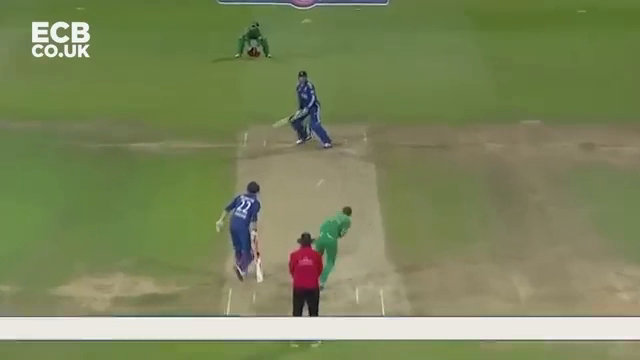Bowler: (218, 181, 269, 287), (320, 201, 355, 287)
Keeper: (232, 18, 277, 61)
Umpire: (282, 233, 323, 318)
batsman: (277, 70, 338, 152)
